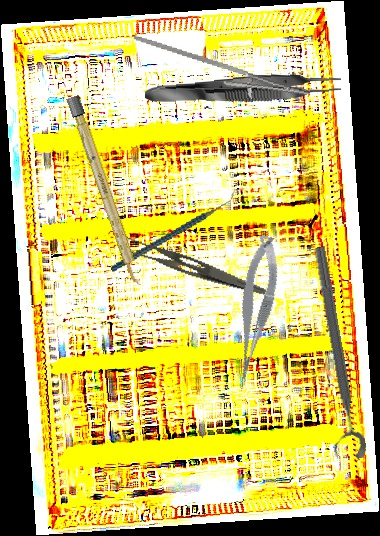Chopper: (100, 187, 247, 273)
Dressing Forceps: (120, 234, 271, 296)
Fixation Ring: (297, 245, 368, 463)
Micro Scissor: (219, 233, 290, 385)
Needle Holder: (126, 34, 313, 110)
Scalpel Handle: (66, 94, 144, 289)
Tissue Forceps: (144, 69, 342, 109)
